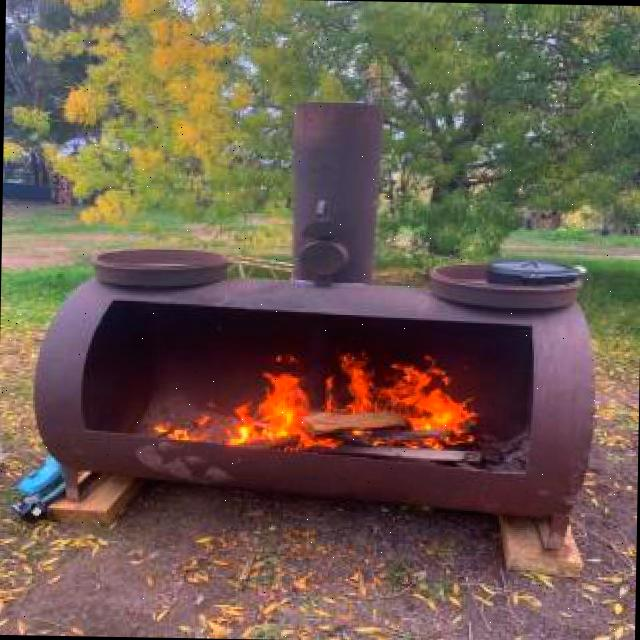fire: (184, 352, 504, 466)
